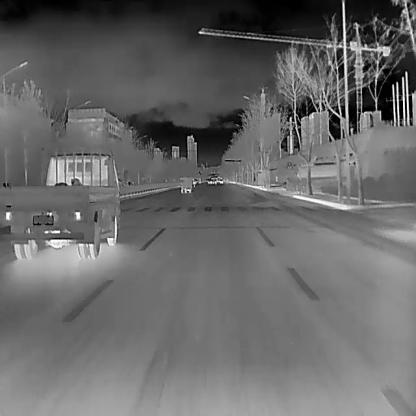car: (206, 172, 216, 184), (216, 174, 222, 184), (190, 178, 198, 185), (127, 178, 131, 184)
truck: (0, 149, 125, 258), (296, 151, 358, 193), (179, 176, 192, 192)
